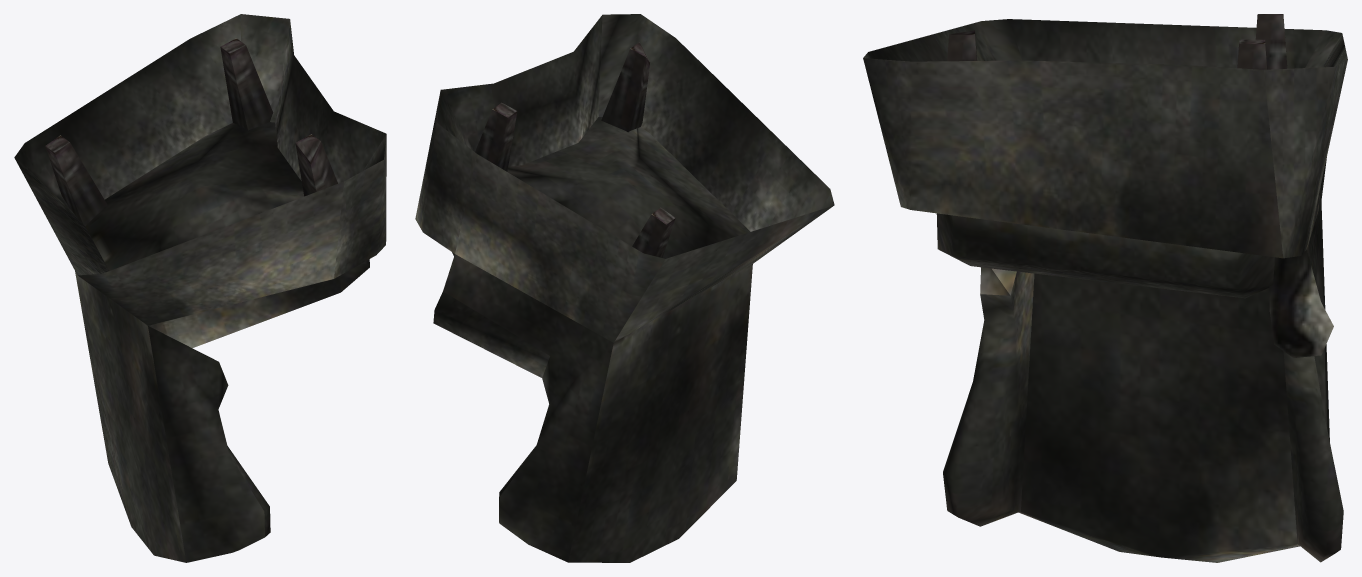
The model's file is furniture_armchair_d.glb.
3 views of the same model, side by side, from view 1: azimuth 30°, elevation 25°; view 2: azimuth 150°, elevation 25°; view 3: azimuth 270°, elevation 25° (orthographic). The views are drawn at different scales.
Bounding box in the file's own units: 47.94 × 63.59 × 45.92.
1 material, 1 textured.
